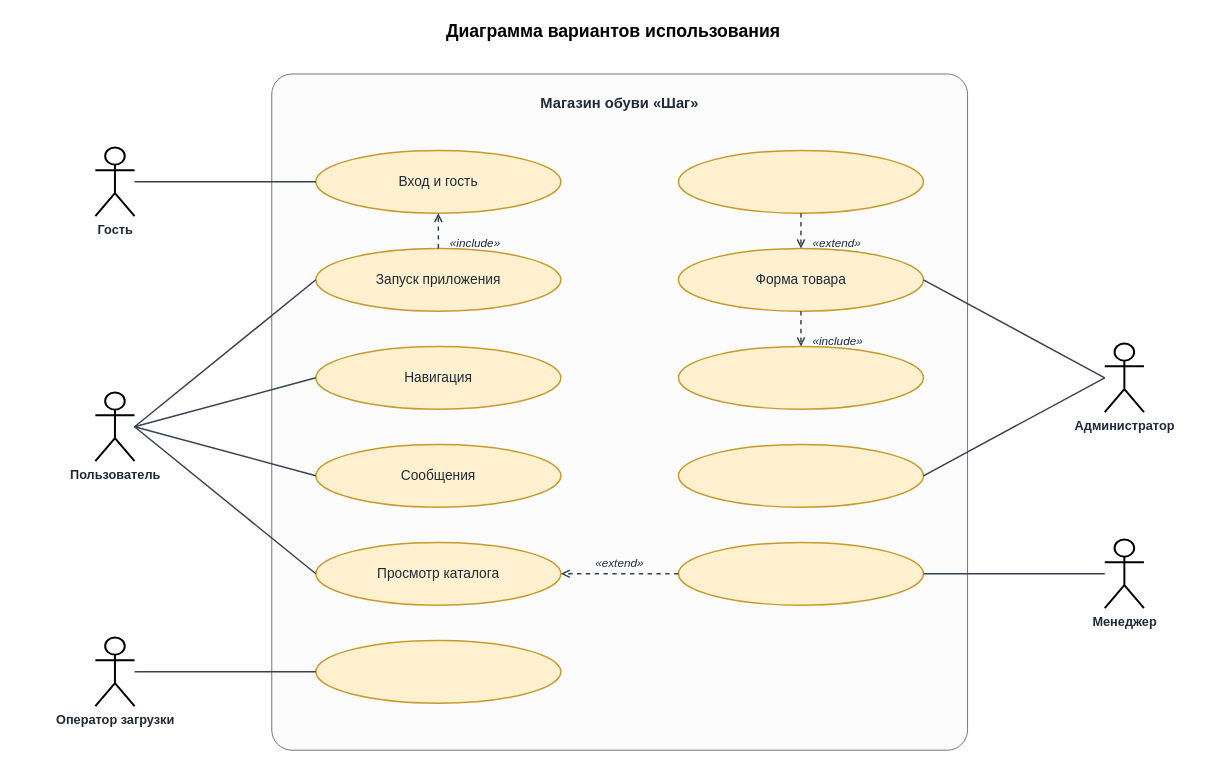
This 1226x767 diagram has some shape labels left out. The shapes that lost their labels are listed below. From the top down, each one's box as (x1, y1, x2, y2) in pixels, then its label:
(677, 149, 924, 213): Изображение товара
(677, 345, 924, 409): Проверка и сохранение
(677, 443, 924, 507): Удаление товара
(677, 541, 924, 605): Поиск, фильтрация, сортировка
(315, 639, 561, 703): Импорт данных
